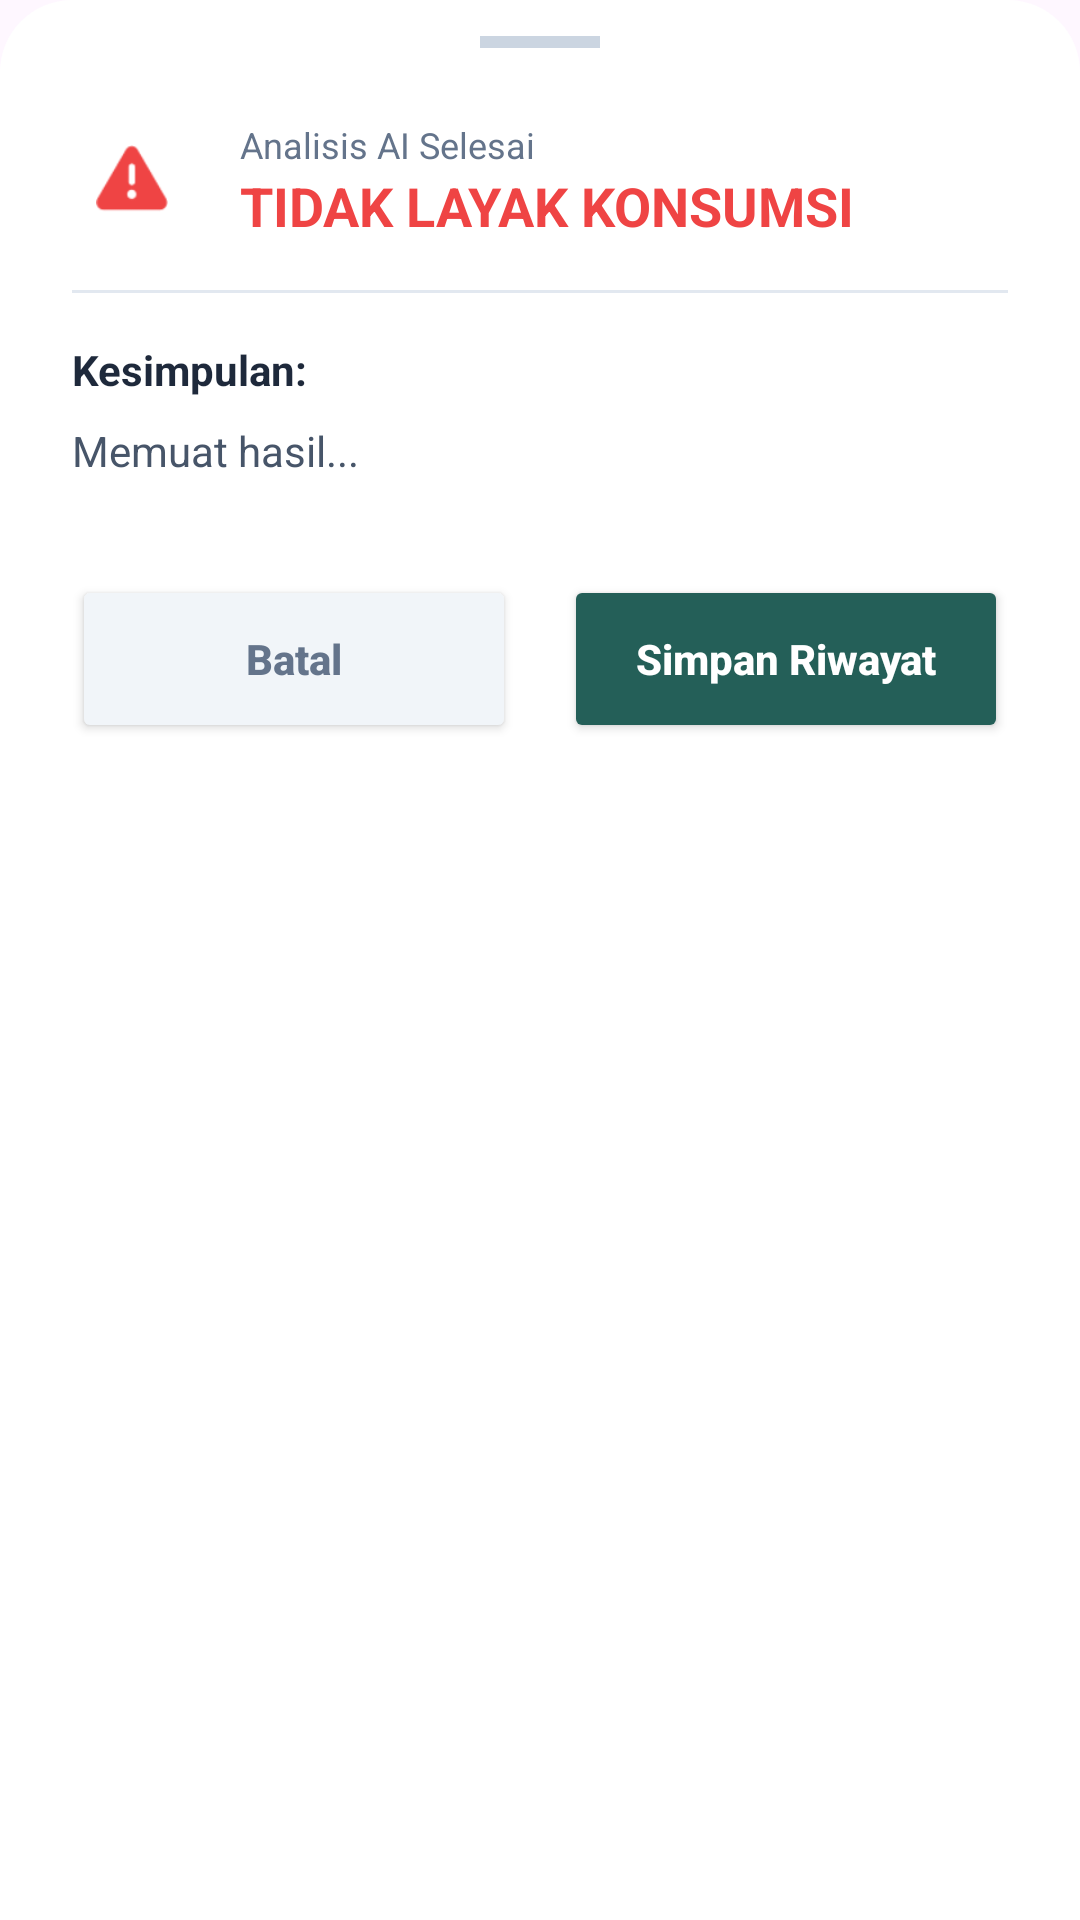

Locate icon controls on the screen. Image size 1080×1920, boxes as (x1, y1, x2, y2).
alert: (96, 145, 168, 211)
